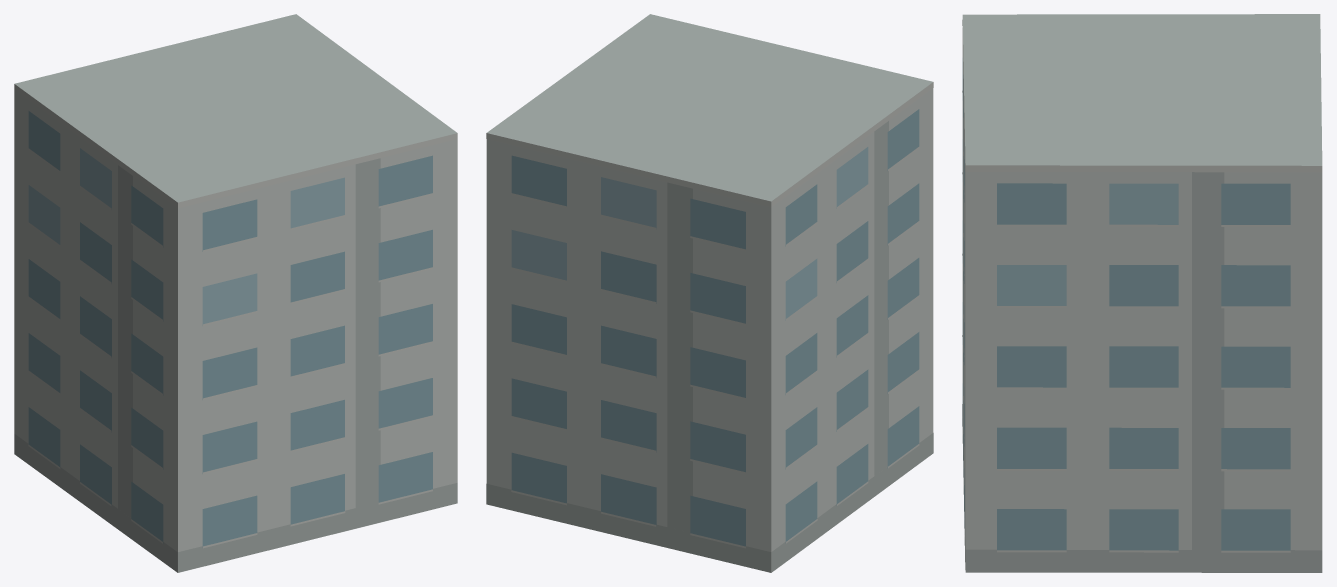
Rendered from survey-upis-32642201.glb.
3 views of the same model, side by side, from view 1: azimuth 30°, elevation 25°; view 2: azimuth 150°, elevation 25°; view 3: azimuth 270°, elevation 25° (orthographic). The views are drawn at different scales.
Parts seen in each view (by area): view 1: survey-upis-32642201.tmp; view 2: survey-upis-32642201.tmp; view 3: survey-upis-32642201.tmp.
Part boxes in pixels (x1,y1,x2,y2): survey-upis-32642201.tmp: [14, 14, 457, 572]; survey-upis-32642201.tmp: [486, 14, 933, 572]; survey-upis-32642201.tmp: [962, 14, 1322, 572].
Size of the model in its own units: 12.22 by 15.25 by 12.23.
